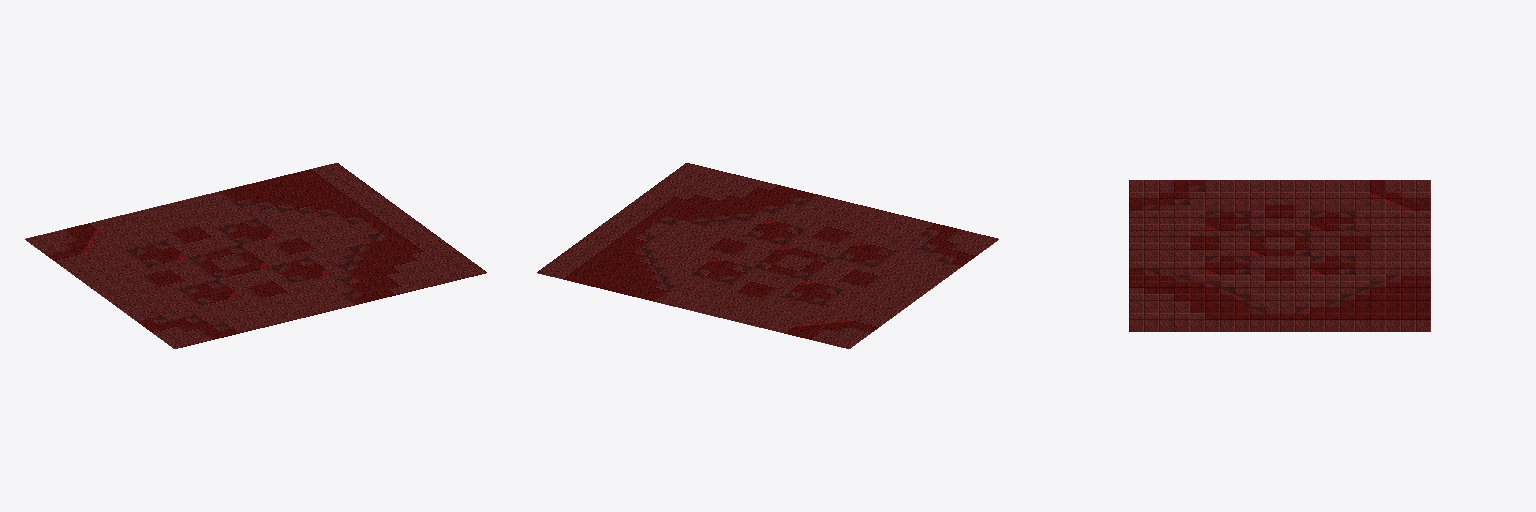
The picture shows the model from 3 angles: view 1: azimuth 30°, elevation 25°; view 2: azimuth 150°, elevation 25°; view 3: azimuth 270°, elevation 25°; orthographic projection.
Visible parts, largest first — view 1: FloorSide_6; view 2: FloorSide_6; view 3: FloorSide_6.
Boxes of the visible parts, x1,y1,x2,y2 form: FloorSide_6: [25, 163, 486, 348]; FloorSide_6: [537, 163, 998, 348]; FloorSide_6: [1129, 180, 1430, 331].
Size of the model in its own units: 24 by 0 by 20.
Materials: 6 (6 with a texture image).